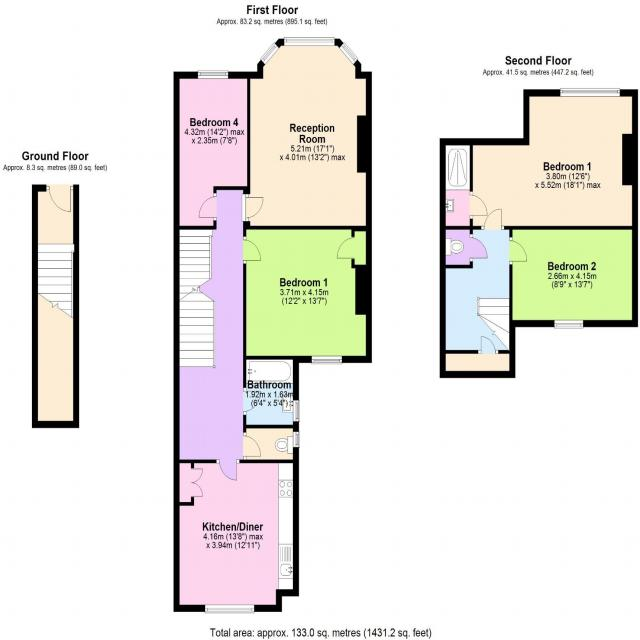DOOR: (241, 194, 265, 221), (509, 237, 528, 265), (481, 207, 504, 230), (243, 433, 262, 460), (243, 388, 262, 415), (243, 237, 262, 264), (216, 460, 240, 481), (470, 234, 488, 262), (470, 191, 488, 219), (198, 193, 216, 220), (478, 336, 499, 354)
ROOM: (440, 88, 638, 230), (242, 37, 372, 228), (174, 459, 299, 613), (243, 227, 372, 364), (510, 225, 638, 328), (173, 71, 250, 231)
WINDOW: (559, 86, 622, 99), (203, 603, 255, 615), (284, 36, 336, 47), (338, 41, 360, 66), (259, 42, 279, 66), (197, 69, 229, 81), (553, 319, 585, 330), (310, 355, 343, 365), (292, 399, 301, 422), (292, 430, 300, 449)
